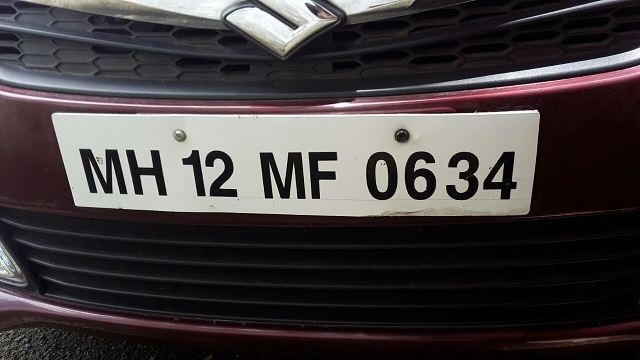licenseplate: (50, 110, 544, 217)
